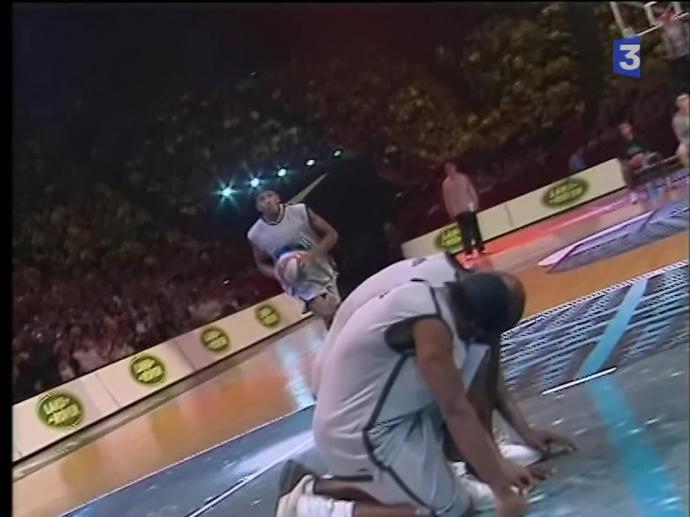basketball: (272, 249, 310, 280)
